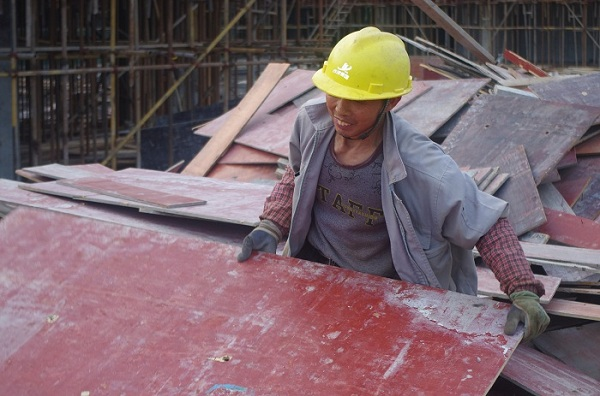safetyhat: (264, 22, 557, 318)
